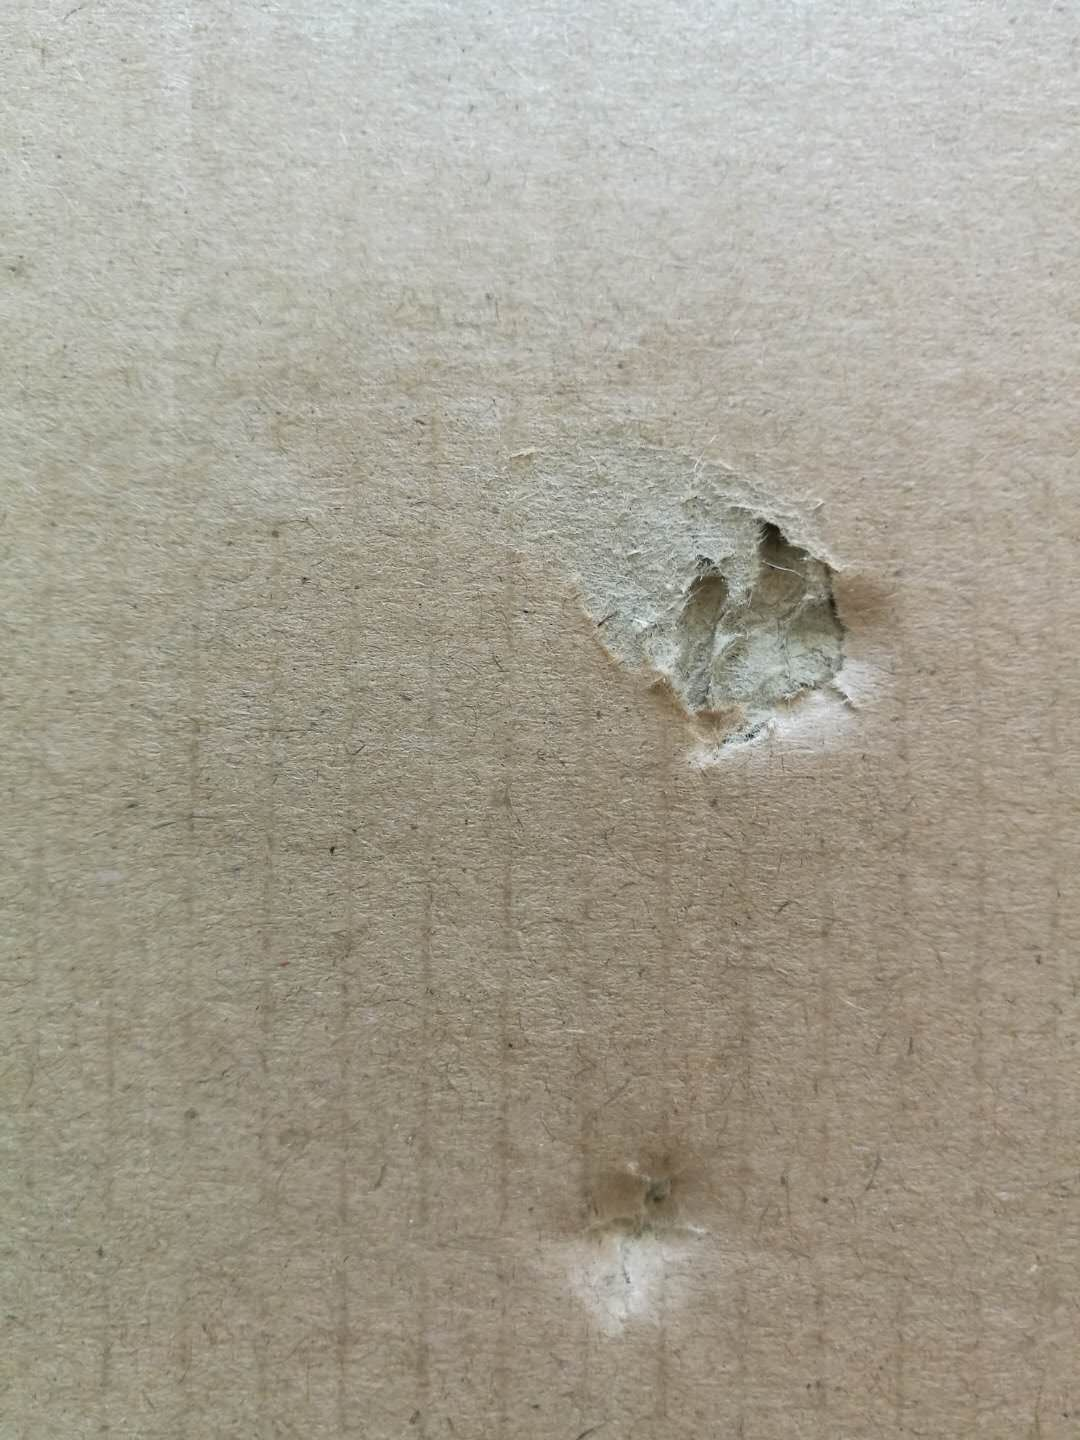defect: (462, 393, 940, 802), (488, 1085, 768, 1347)
